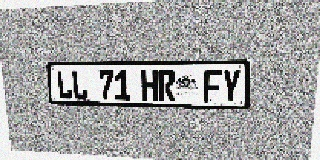1: (114, 70, 130, 100)
7: (98, 70, 115, 100)
F: (203, 70, 222, 102)
H: (141, 70, 158, 101)
L: (71, 70, 88, 100), (56, 70, 73, 99)
R: (158, 70, 175, 101)
Y: (221, 69, 241, 103)
